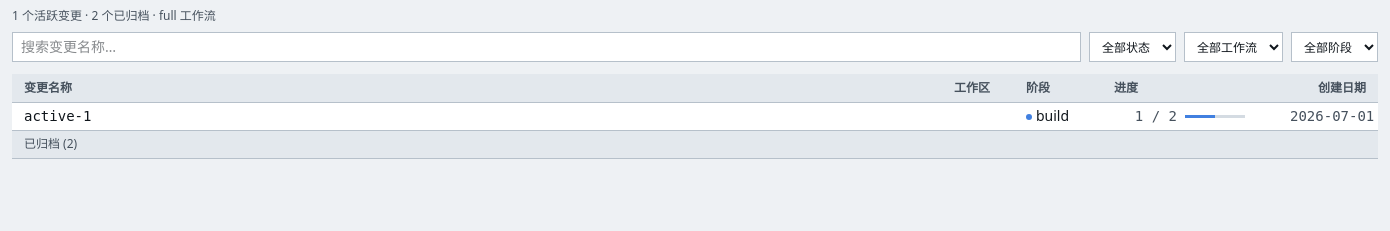
Test: ChangeExplorer › groups archived changes under a clickable "已归档 (N)" table divider row
Expected: the text "active-1" is shown, x1=12 y1=102 x2=942 y2=130
Click to expand.
Click the button "已归档 (2)": (695, 144) x1=12 y1=130 x2=1378 y2=158
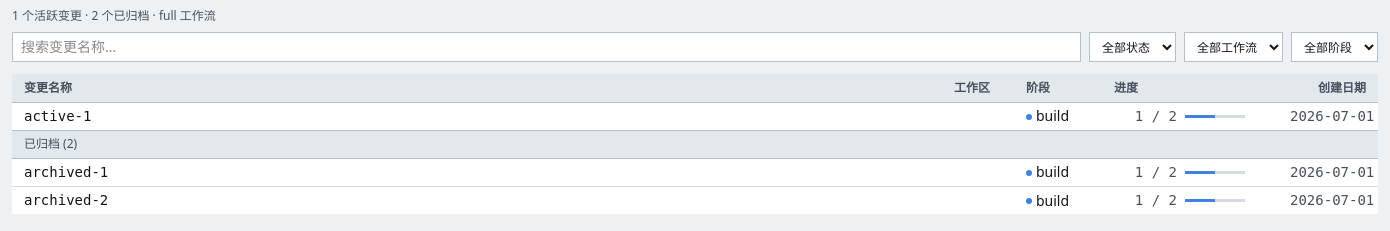
Result: the text "archived-1" is shown at x1=12 y1=158 x2=942 y2=186
Result: the text "archived-2" is shown at x1=12 y1=186 x2=942 y2=214
